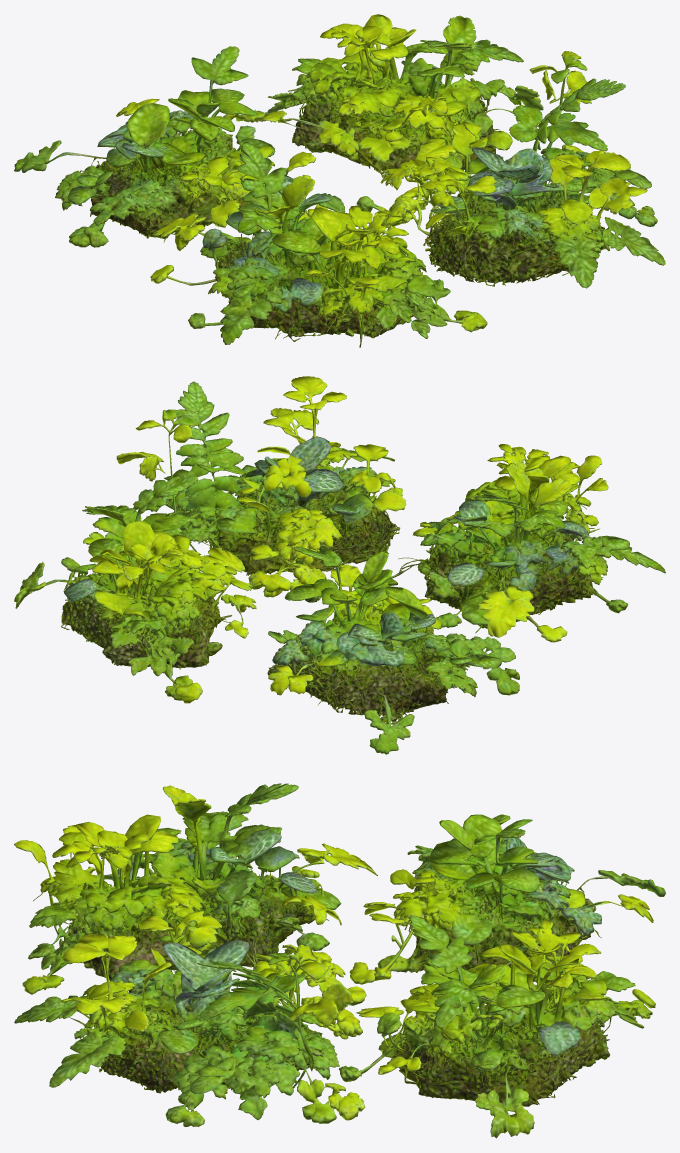
File: bright-accent-foliage.glb
3 renders of one model, top to bottom at view 1: azimuth 30°, elevation 25°; view 2: azimuth 150°, elevation 25°; view 3: azimuth 270°, elevation 25°, orthographic. The views are drawn at different scales.
Size of the model in its own units: 1.85 by 0.5069 by 1.89.
1 material, 1 textured.
